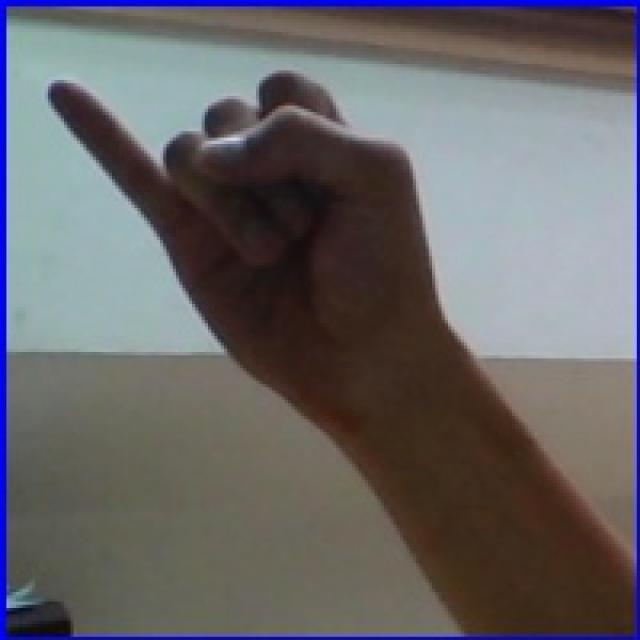J: (30, 29, 523, 426)
